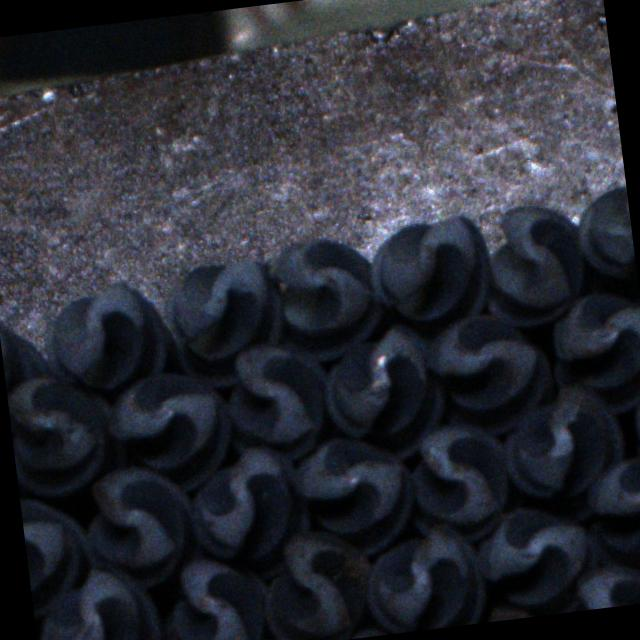tool_b: (496, 380, 632, 530), (316, 321, 450, 468), (181, 441, 314, 585), (420, 304, 558, 440), (156, 254, 288, 392), (104, 368, 240, 499), (289, 430, 420, 560), (362, 213, 496, 337), (38, 276, 178, 394), (78, 461, 202, 593), (6, 370, 129, 501), (264, 233, 387, 364), (470, 498, 600, 621), (360, 518, 490, 636), (477, 199, 592, 330), (219, 336, 336, 464), (398, 419, 514, 547), (252, 524, 377, 640), (545, 287, 640, 416), (155, 550, 275, 640), (31, 560, 165, 640), (19, 489, 92, 616), (573, 184, 640, 311), (579, 455, 640, 583), (543, 558, 640, 614), (0, 308, 53, 404), (627, 371, 640, 479)
